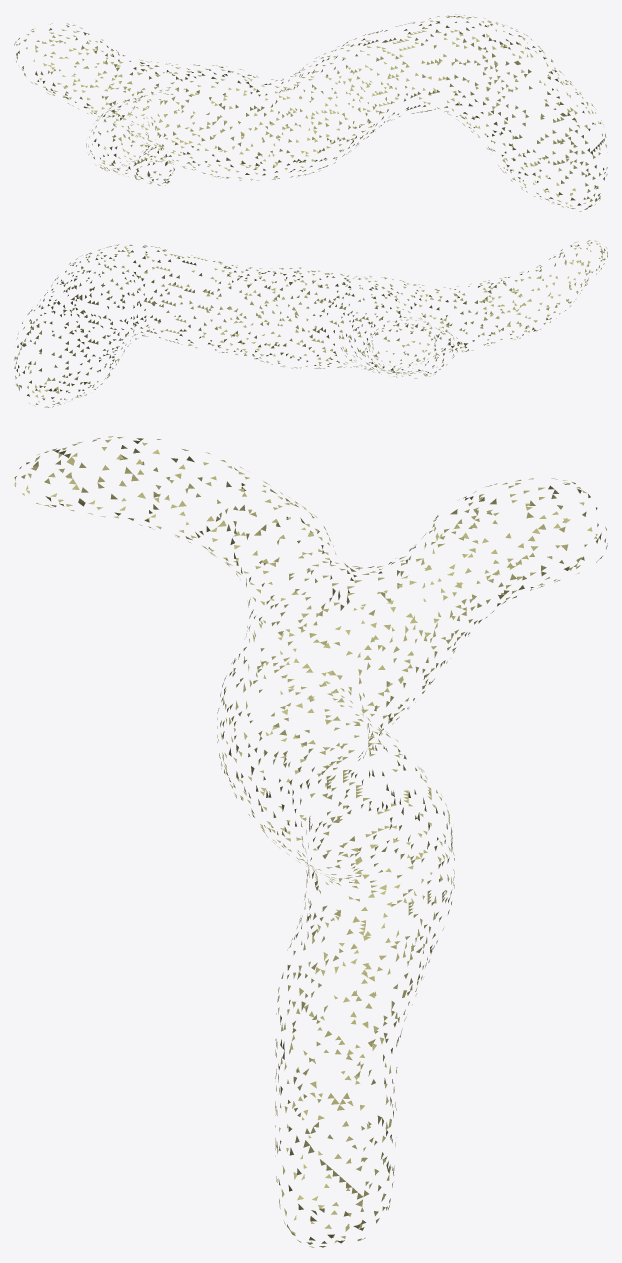
The model's file is morph_009.glb.
3 renders of one model, top to bottom at view 1: azimuth 30°, elevation 25°; view 2: azimuth 150°, elevation 25°; view 3: azimuth 270°, elevation 25°, orthographic. The views are drawn at different scales.
Bounding box in the file's own units: 102 × 43.62 × 58.31.
